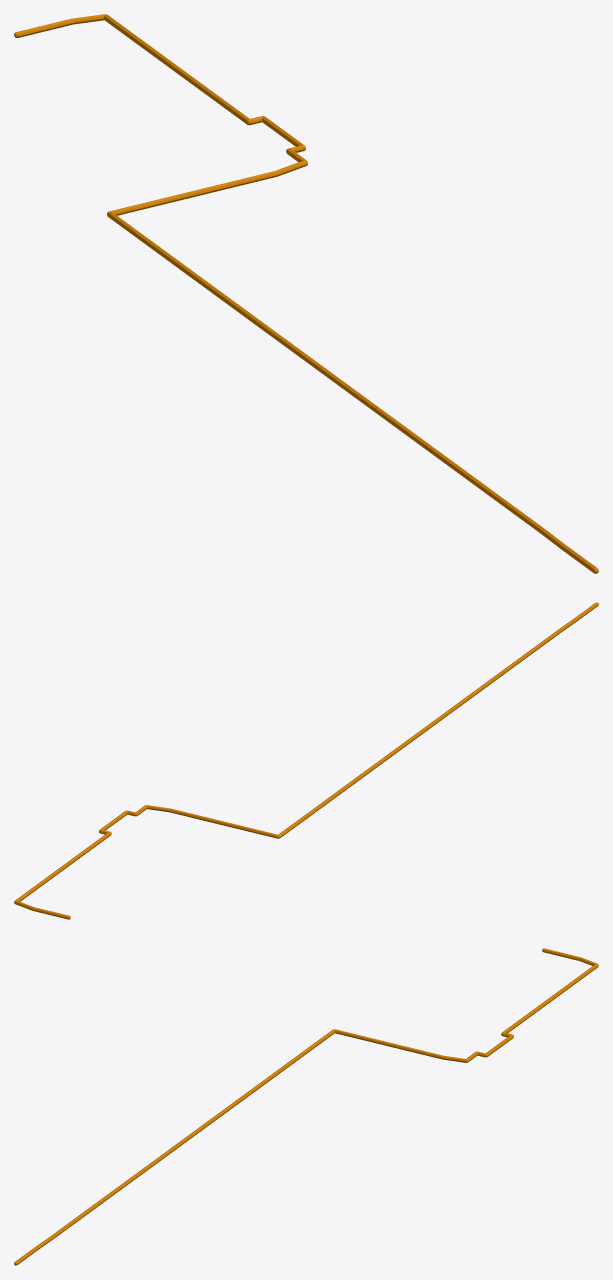
The picture shows the model from 3 angles, top to bottom: view 1: azimuth 30°, elevation 25°; view 2: azimuth 150°, elevation 25°; view 3: azimuth 330°, elevation 25°; orthographic projection. The views are drawn at different scales.
Size of the model in its own units: 792 by 20 by 4363.
